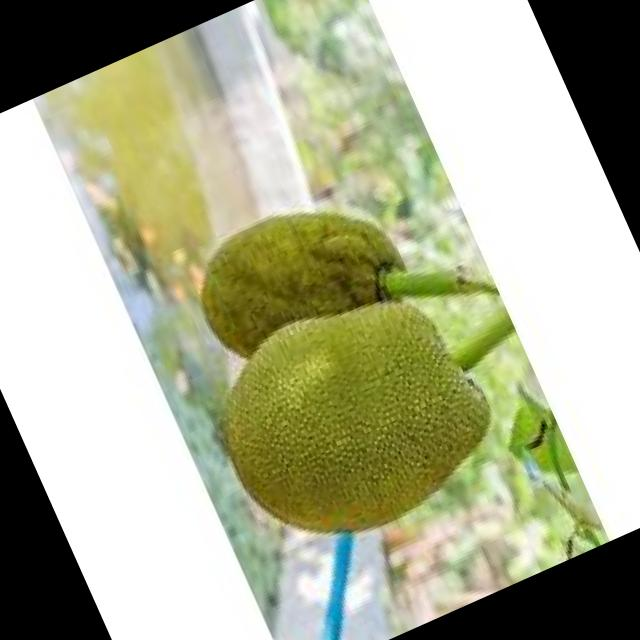Fruit: (176, 251, 528, 586)
